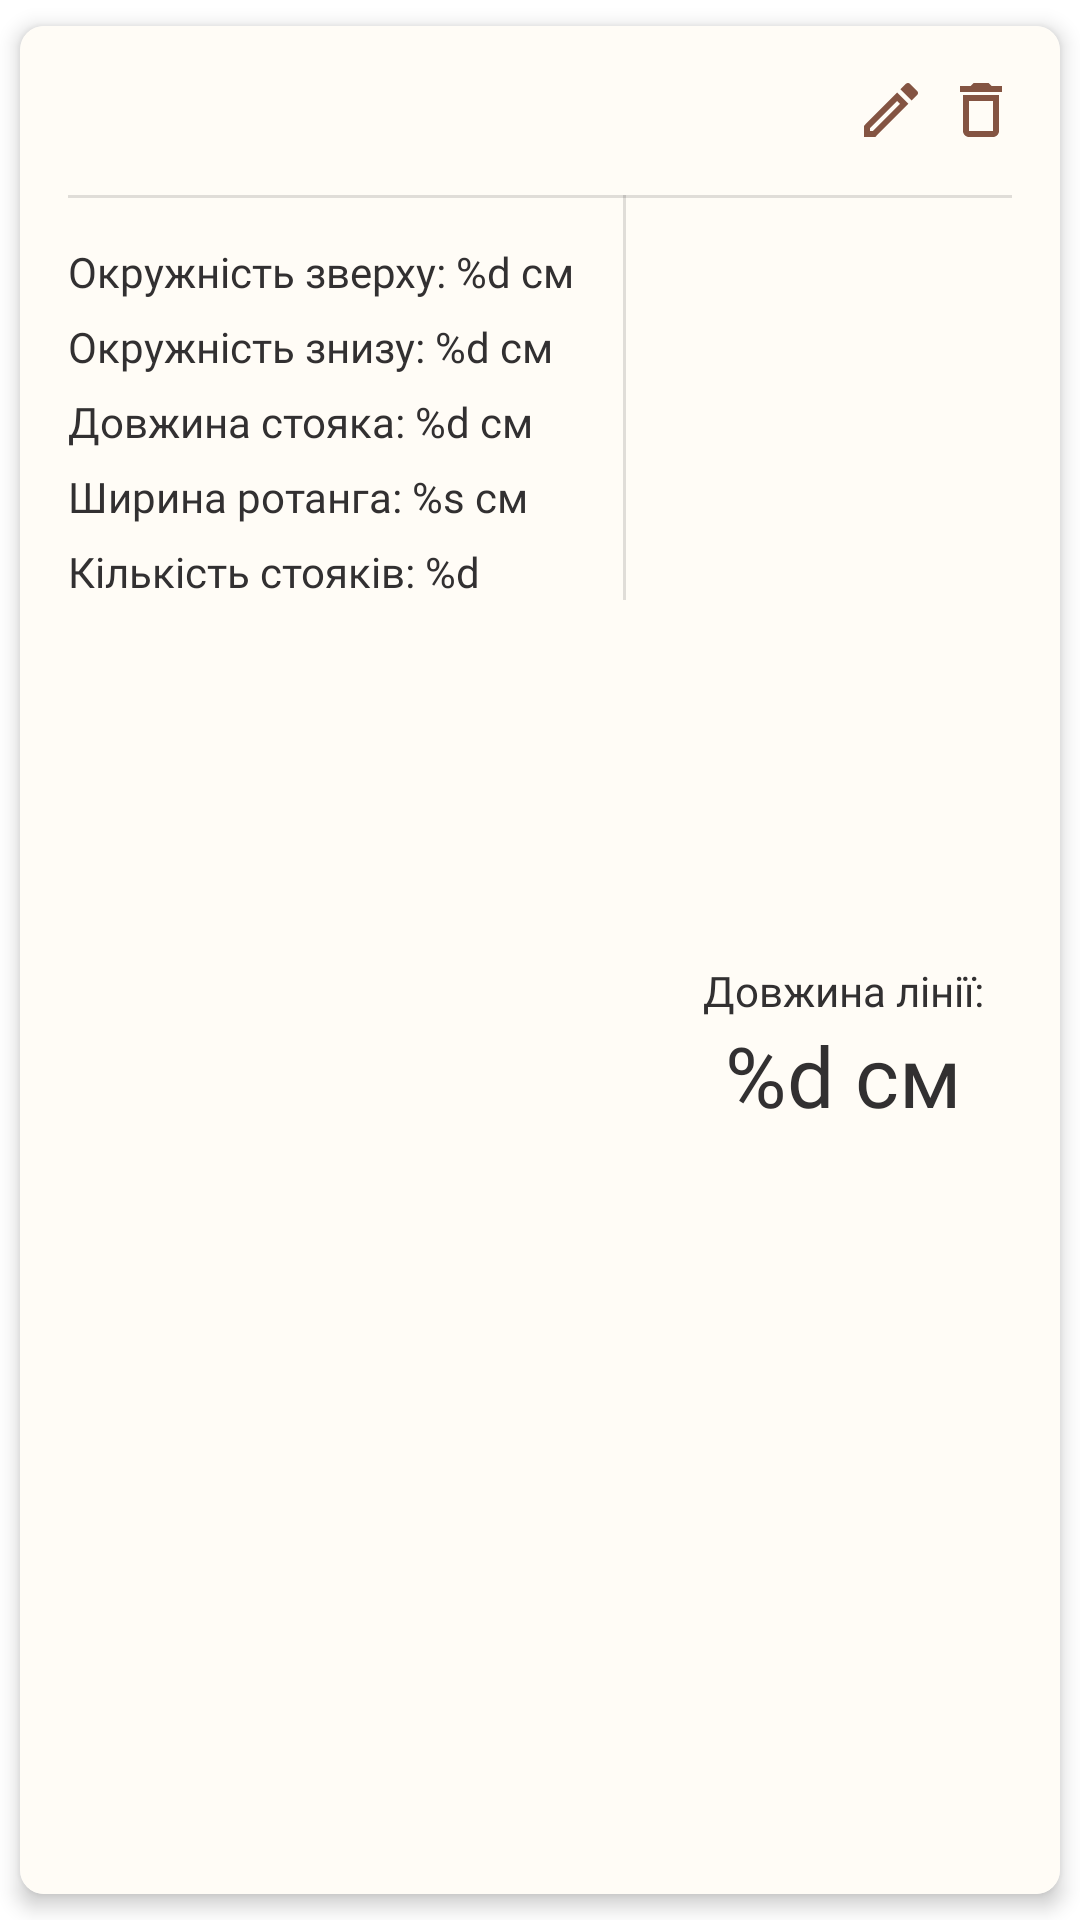

Where to tap for icons on this 1080px×1920px app screen, as (x,y):
Delete Button: (981,110)
Edit button: (891,110)
